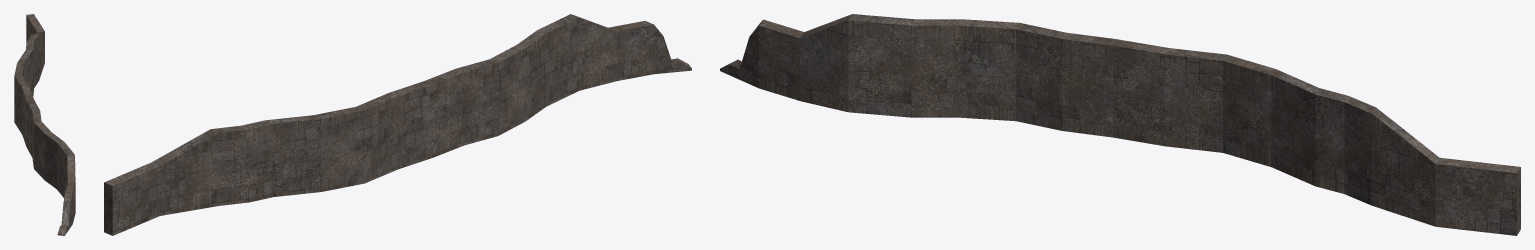
The model's file is Muralla.obj.
3 views of the same model, side by side, from view 1: azimuth 30°, elevation 25°; view 2: azimuth 150°, elevation 25°; view 3: azimuth 270°, elevation 25° (orthographic). The views are drawn at different scales.
Visible parts, largest first — view 1: muralla; view 2: muralla; view 3: muralla.
Boxes of the visible parts, x1=… form: muralla: x1=14, y1=14, x2=75, y2=235; muralla: x1=104, y1=14, x2=691, y2=235; muralla: x1=720, y1=14, x2=1520, y2=235.
Size of the model in its own units: 155 by 39.26 by 310.
1 material, 1 textured.
